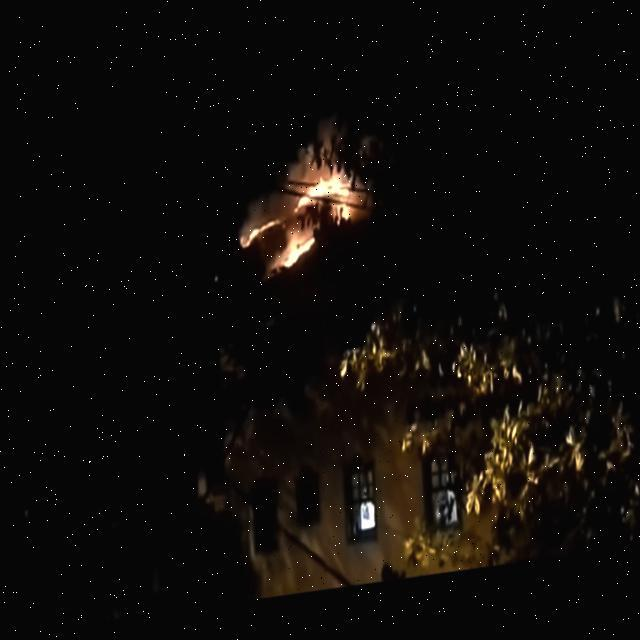Fire: (294, 186, 350, 238), (274, 246, 312, 280), (236, 224, 278, 252)
